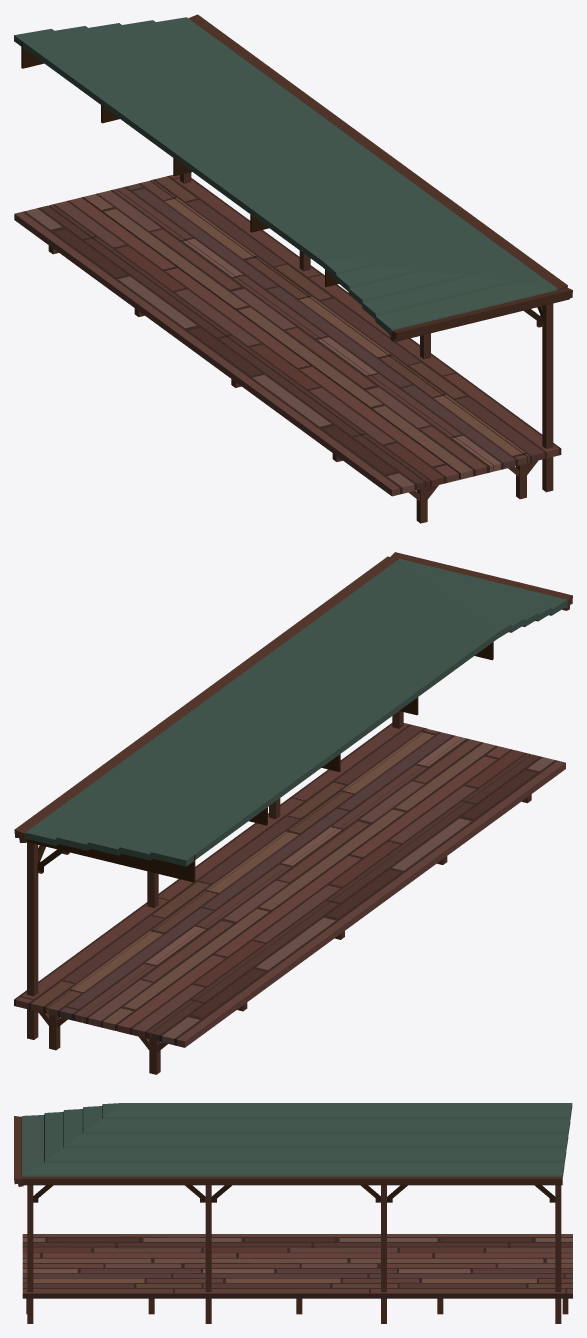
File: Deck Train Side.glb
3 views of the same model, one above another, from view 1: azimuth 30°, elevation 25°; view 2: azimuth 150°, elevation 25°; view 3: azimuth 270°, elevation 25° (orthographic). The views are drawn at different scales.
Visible parts, largest first — view 1: Deck Train Side; view 2: Deck Train Side; view 3: Deck Train Side.
Part boxes in pixels (x1,y1,x2,y2): Deck Train Side: (14,14,572,523); Deck Train Side: (14,552,572,1074); Deck Train Side: (14,1103,572,1323).
Size of what is drawn, in the model's own units: 3.05 by 3.65 by 11.42.
2 materials, 2 textured.
